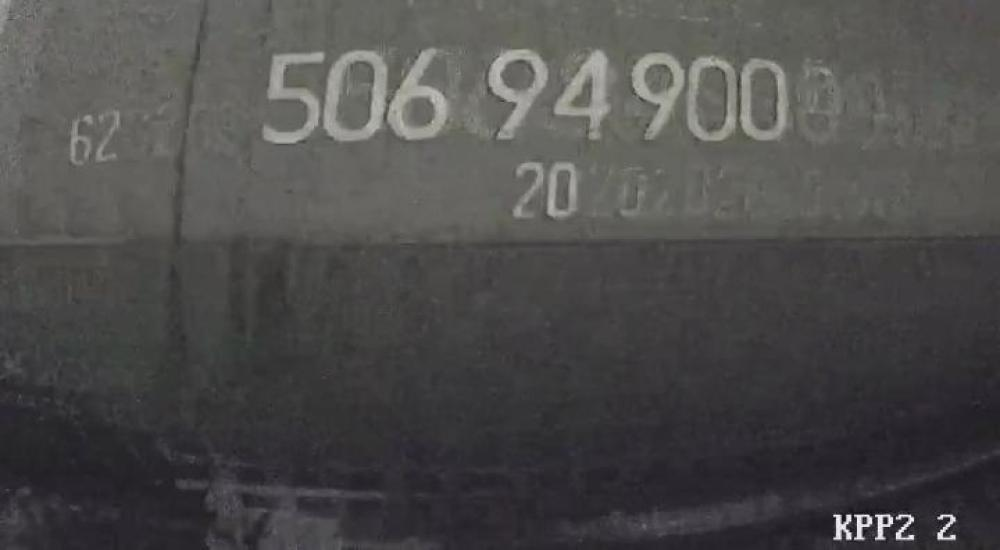Wagon-number: (254, 40, 794, 155)
